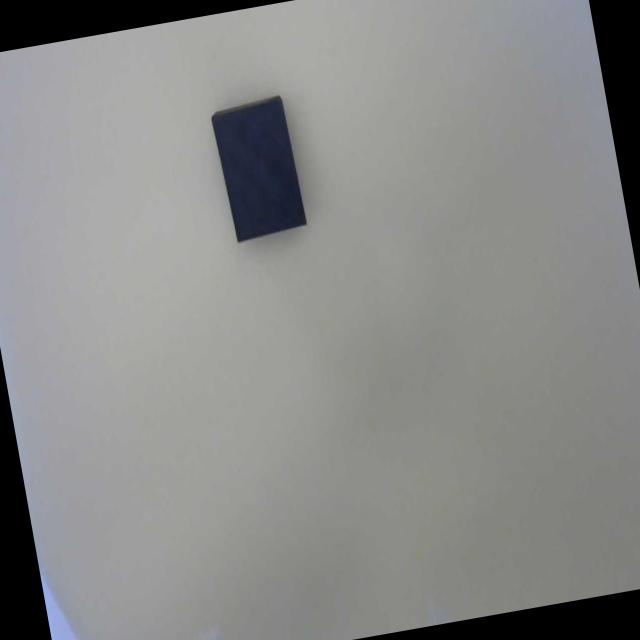square: (211, 98, 307, 243)
